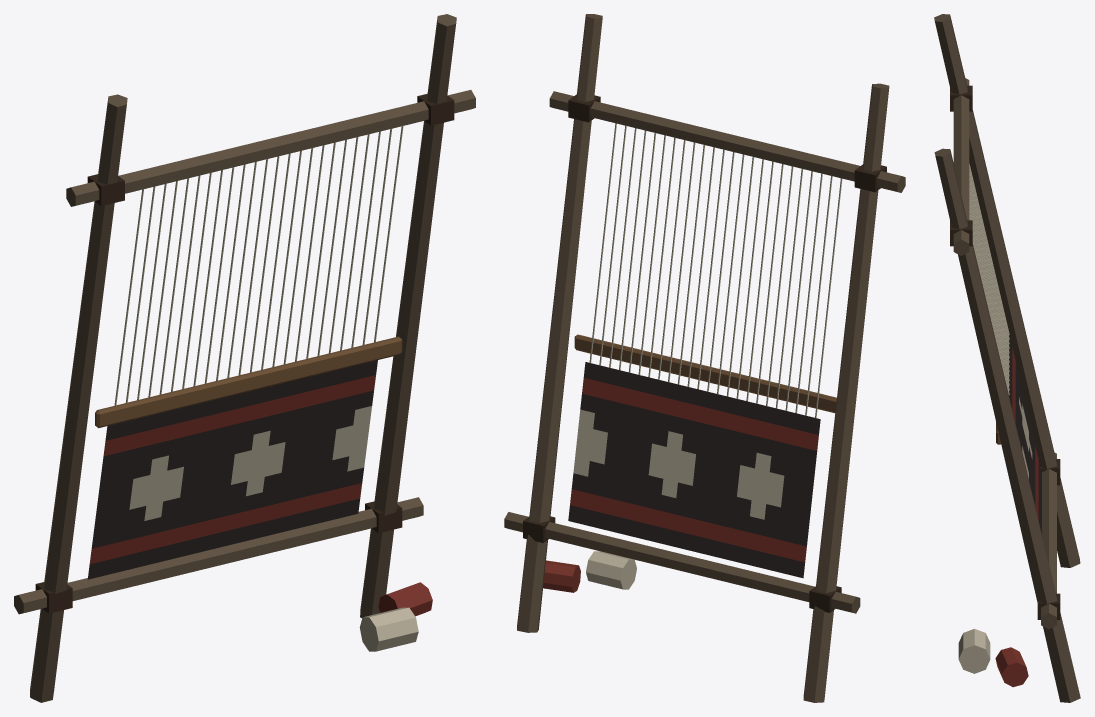
File: telar.glb
3 renders of one model, left to right at view 1: azimuth 30°, elevation 25°; view 2: azimuth 150°, elevation 25°; view 3: azimuth 270°, elevation 25°, orthographic. The views are drawn at different scales.
Visible parts, largest first — view 1: Telar; view 2: Telar; view 3: Telar.
Part boxes in pixels (x1,y1,x2,y2): Telar: (14, 14, 475, 702); Telar: (504, 14, 905, 702); Telar: (934, 14, 1080, 702).
Size of what is drawn, in the model's own units: 1.7 by 2.66 by 0.6442.
